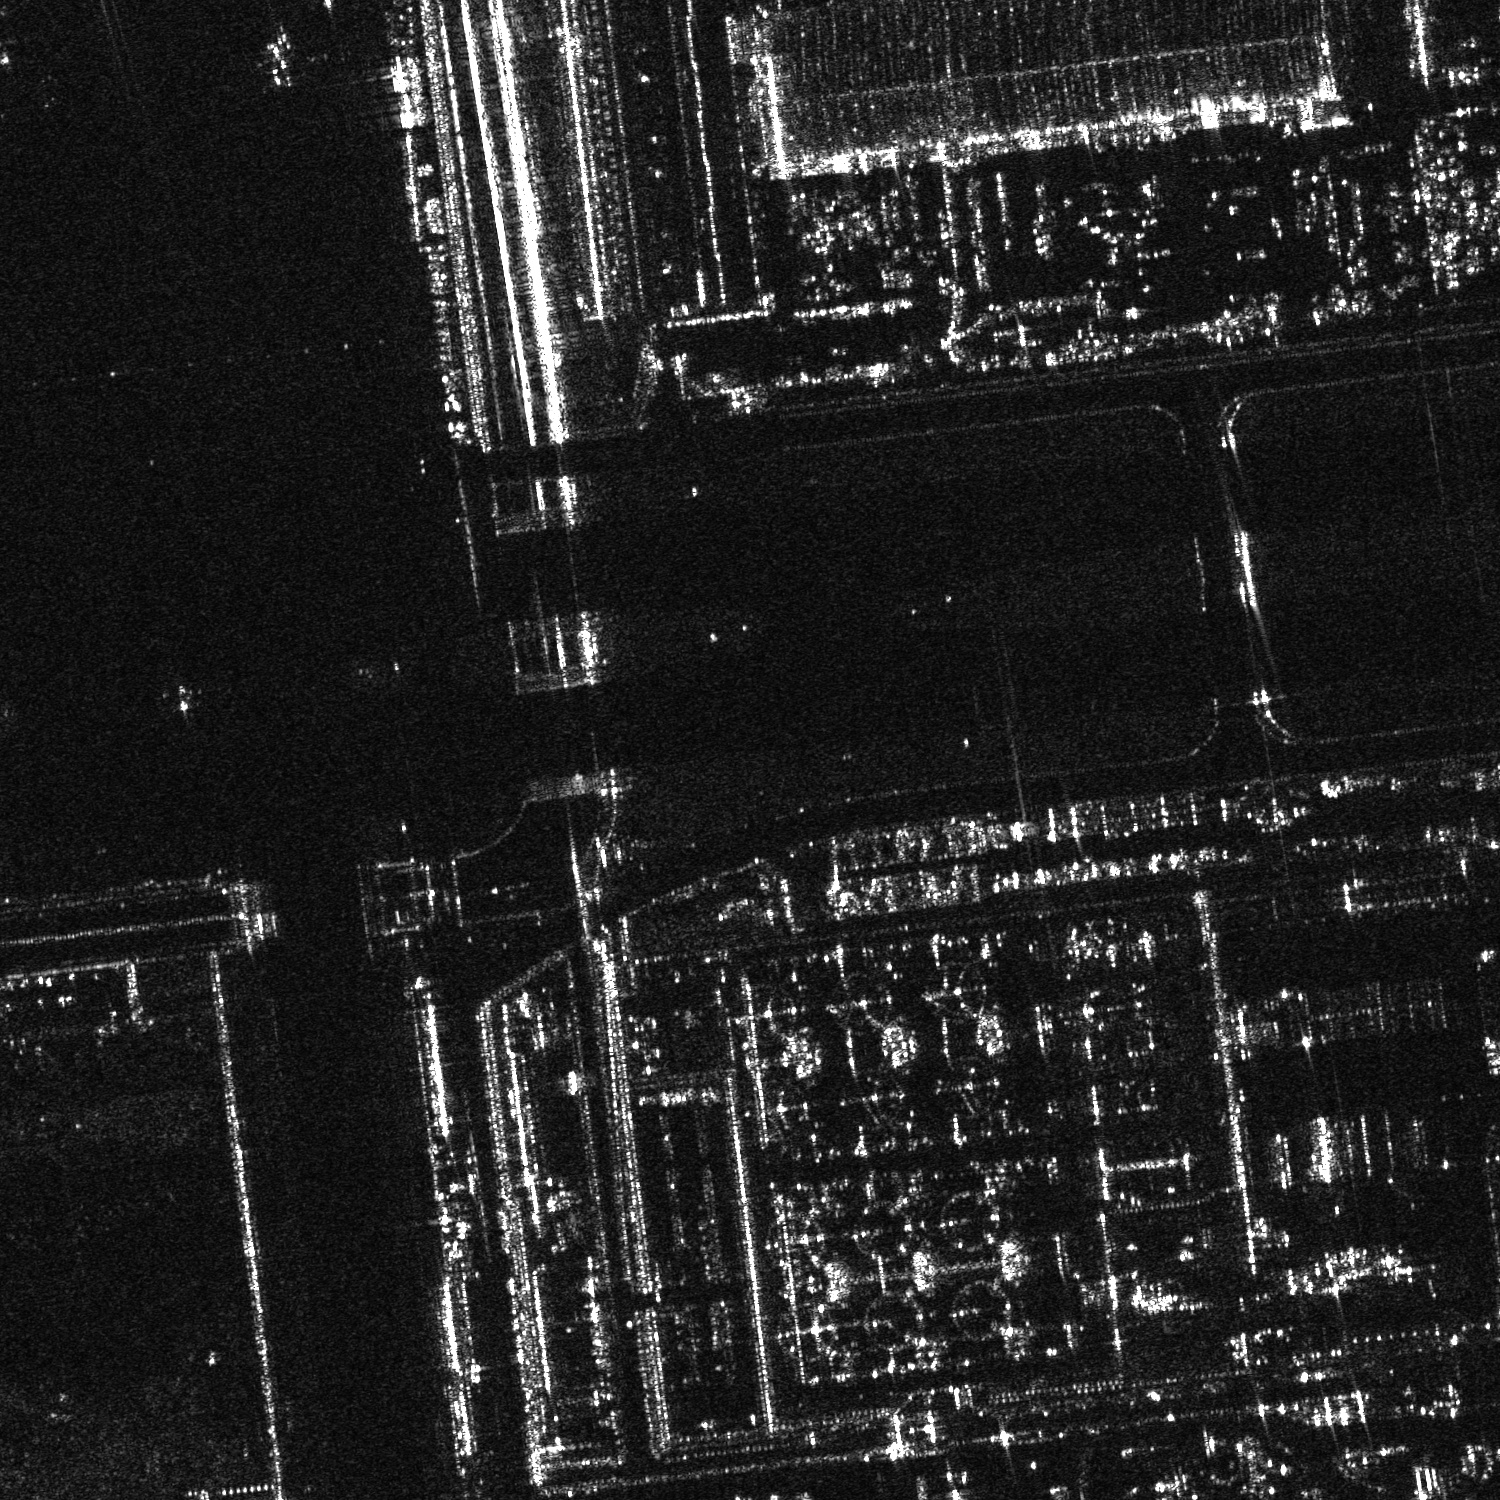A320/321: (249, 29, 315, 93)
